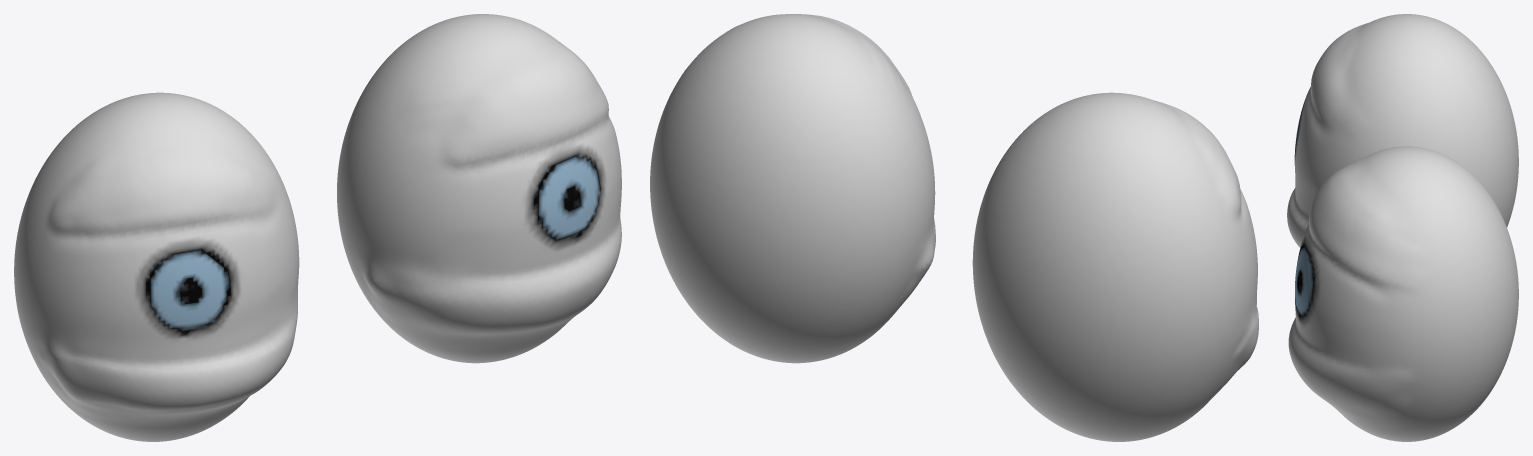
File: eye.glb
3 renders of one model, left to right at view 1: azimuth 30°, elevation 25°; view 2: azimuth 150°, elevation 25°; view 3: azimuth 270°, elevation 25°, orthographic. The views are drawn at different scales.
Parts seen in each view (by area): view 1: Mesh_0.002; view 2: Mesh_0.002; view 3: Mesh_0.002.
Part boxes in pixels (x1,y1,x2,y2): Mesh_0.002: (14, 14, 621, 441); Mesh_0.002: (650, 14, 1258, 441); Mesh_0.002: (1287, 14, 1518, 441).
Size of the model in its own units: 1.16 by 0.6346 by 0.4814.
